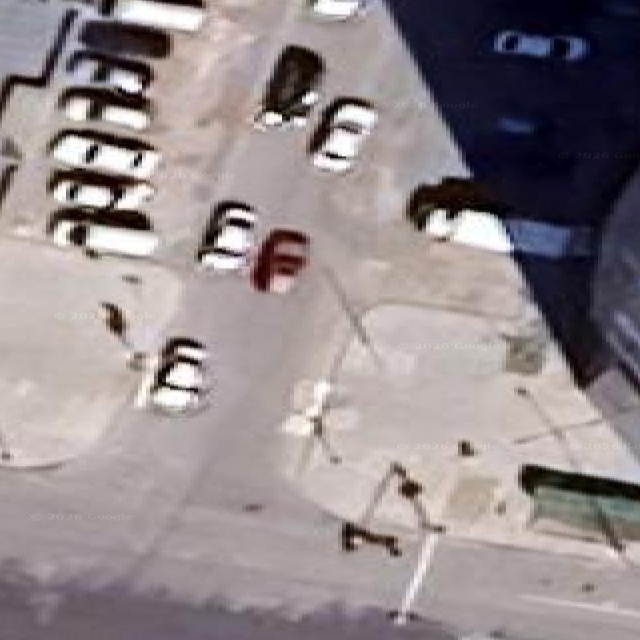car: (407, 178, 592, 259), (590, 183, 639, 387), (407, 178, 512, 252), (477, 104, 572, 175), (253, 45, 323, 127), (407, 176, 508, 230), (48, 129, 159, 178), (48, 207, 158, 256), (308, 100, 375, 172), (148, 337, 206, 412), (48, 169, 154, 208), (424, 208, 512, 252), (196, 201, 252, 270), (68, 49, 151, 95), (57, 87, 150, 128), (504, 218, 595, 259), (251, 228, 307, 292), (80, 20, 169, 57), (105, 0, 204, 31), (492, 31, 587, 60), (604, 308, 639, 379), (51, 176, 114, 207), (496, 114, 548, 136), (307, 0, 366, 19), (0, 156, 16, 203), (600, 0, 639, 18)
